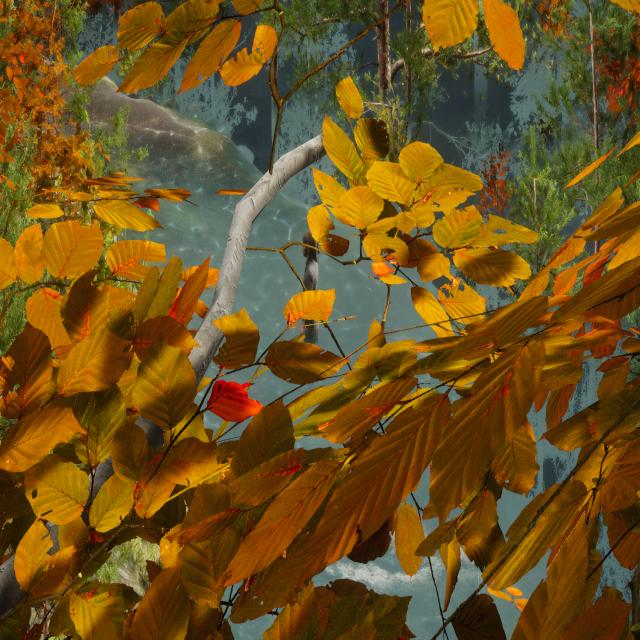Human: (298, 225, 325, 356)
